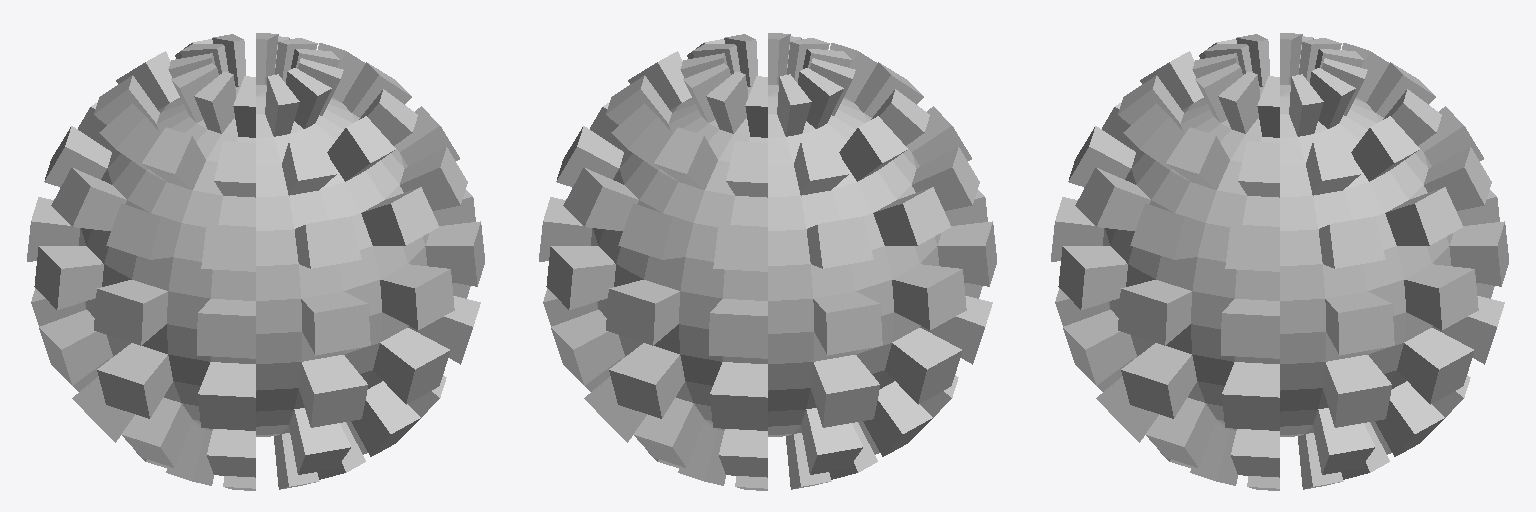
File: Tank.obj
The picture shows the model from 3 angles: view 1: azimuth 30°, elevation 25°; view 2: azimuth 150°, elevation 25°; view 3: azimuth 270°, elevation 25°; orthographic projection.
Parts seen in each view (by area): view 1: Sphere; view 2: Sphere; view 3: Sphere.
Boxes of the visible parts, box(x1,y1,x2,y2) form: Sphere: box(27, 33, 484, 490); Sphere: box(539, 33, 996, 490); Sphere: box(1051, 33, 1508, 490).
Bounding box in the file's own units: 2.57 × 2.44 × 2.57.